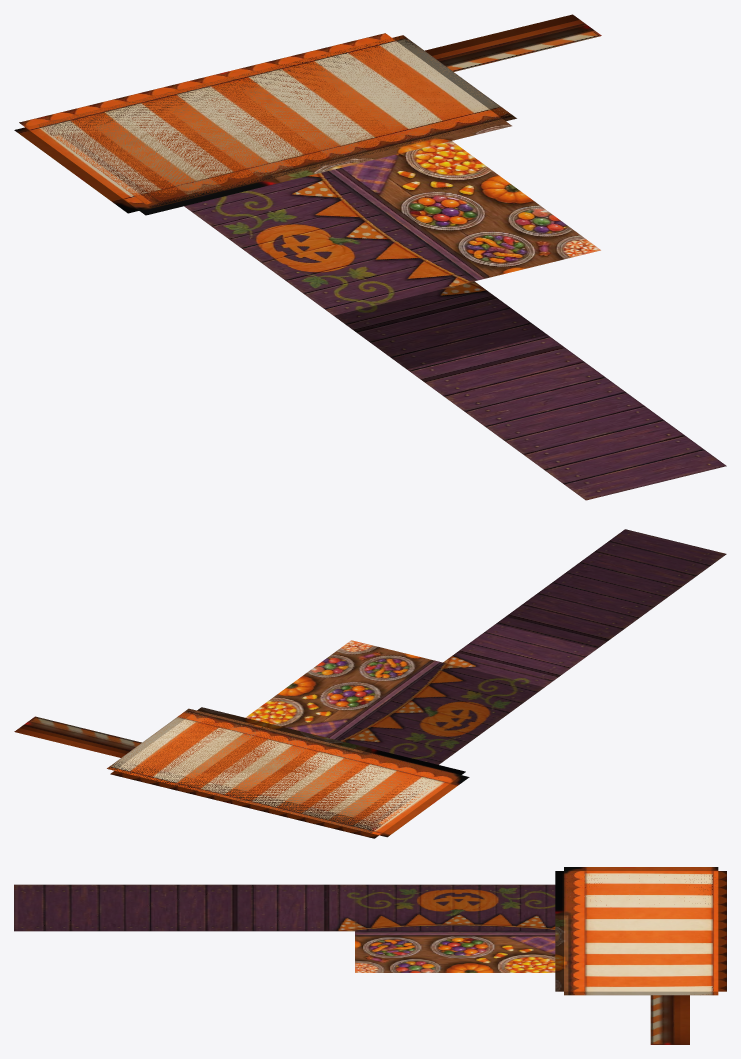
File: candy_stall_fold.glb
3 renders of one model, top to bottom at view 1: azimuth 30°, elevation 25°; view 2: azimuth 150°, elevation 25°; view 3: azimuth 270°, elevation 25°, orthographic. The views are drawn at different scales.
Visible parts, largest first — view 1: GEO-candy_stall; view 2: GEO-candy_stall; view 3: GEO-candy_stall.
Part boxes in pixels (x1,y1,x2,y2): GEO-candy_stall: [14, 14, 726, 500]; GEO-candy_stall: [14, 529, 726, 838]; GEO-candy_stall: [14, 867, 726, 1044].
Bounding box in the file's own units: 3.82 × 0.009 × 6.48.
Materials: 1 (1 with a texture image).
